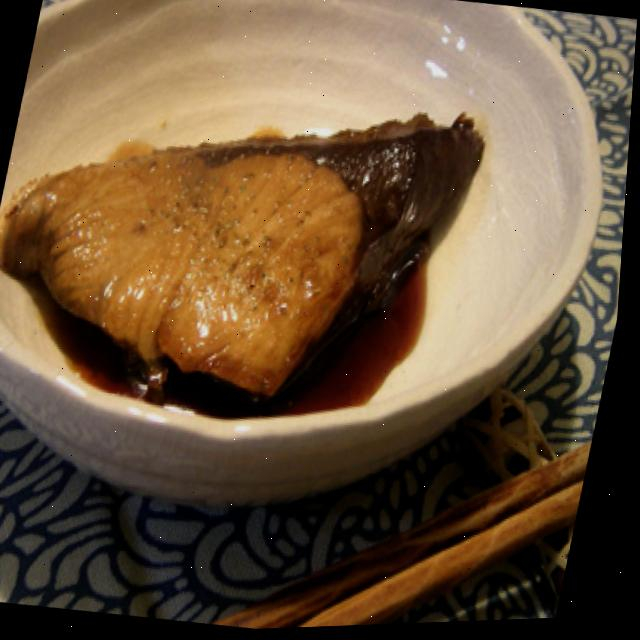熟制海鲜: (0, 39, 528, 432)
